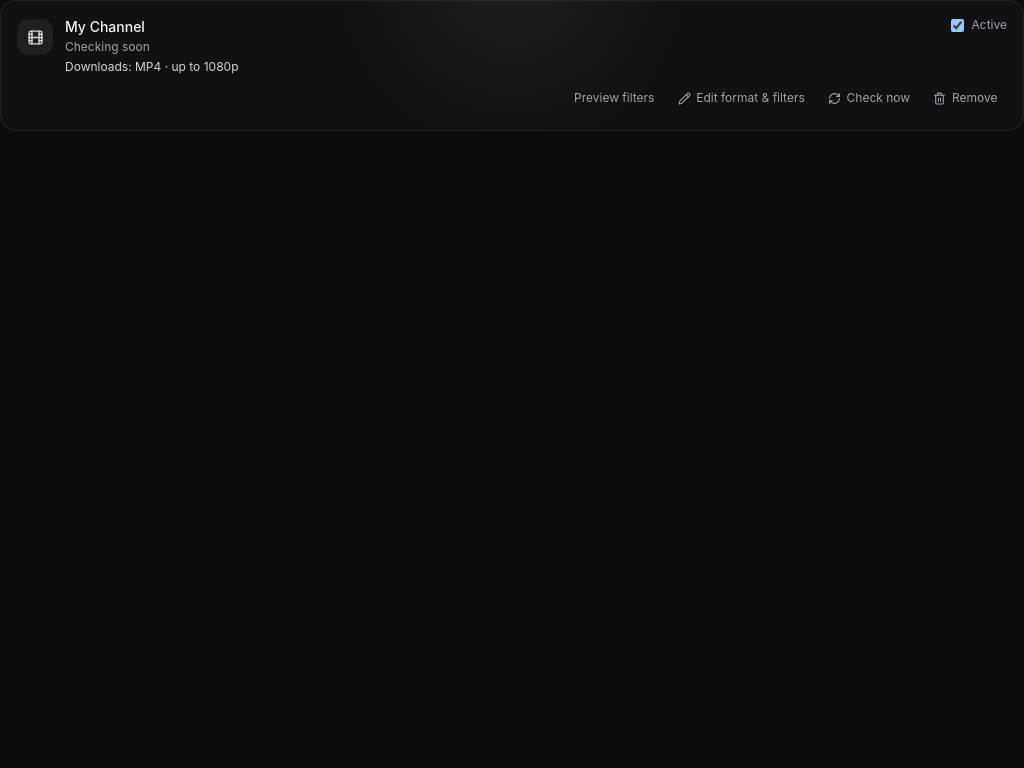
Test case: SubscriptionCard › previews draft filters without updating the subscription
This screenshot has width=1024, height=768.
Click the button "Edit format & filters": coordinates (741, 98) [668,83,814,114]
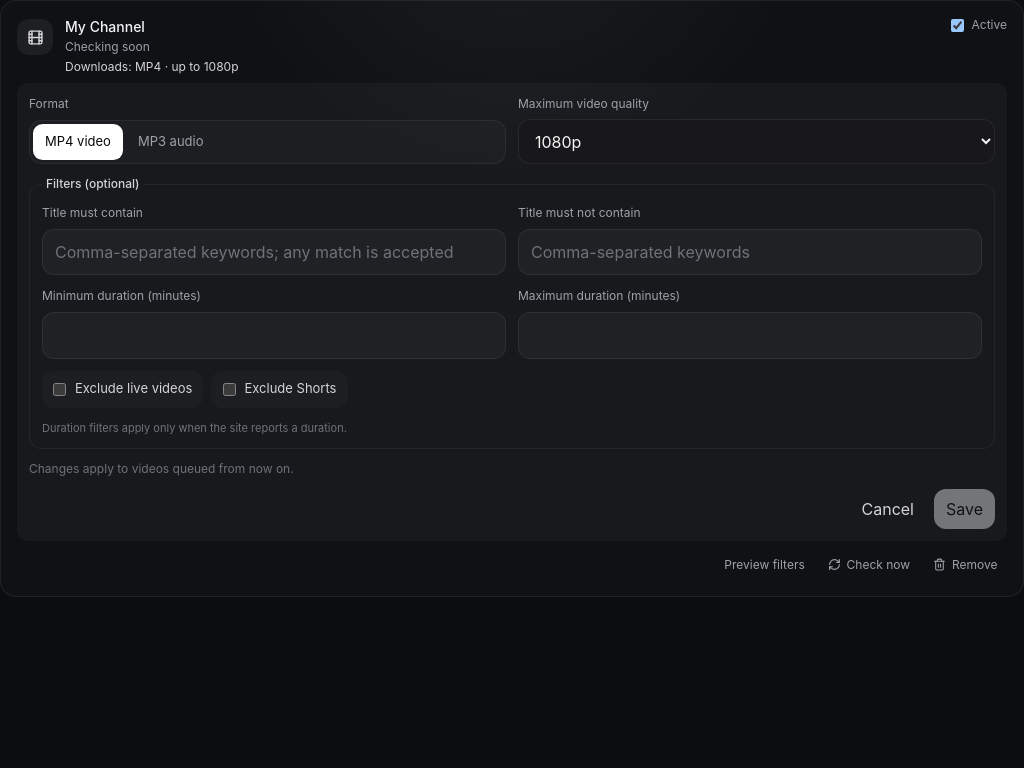
In the field labelled "Title must contain": coordinates (274, 252) [42,229,506,275], type "cat"
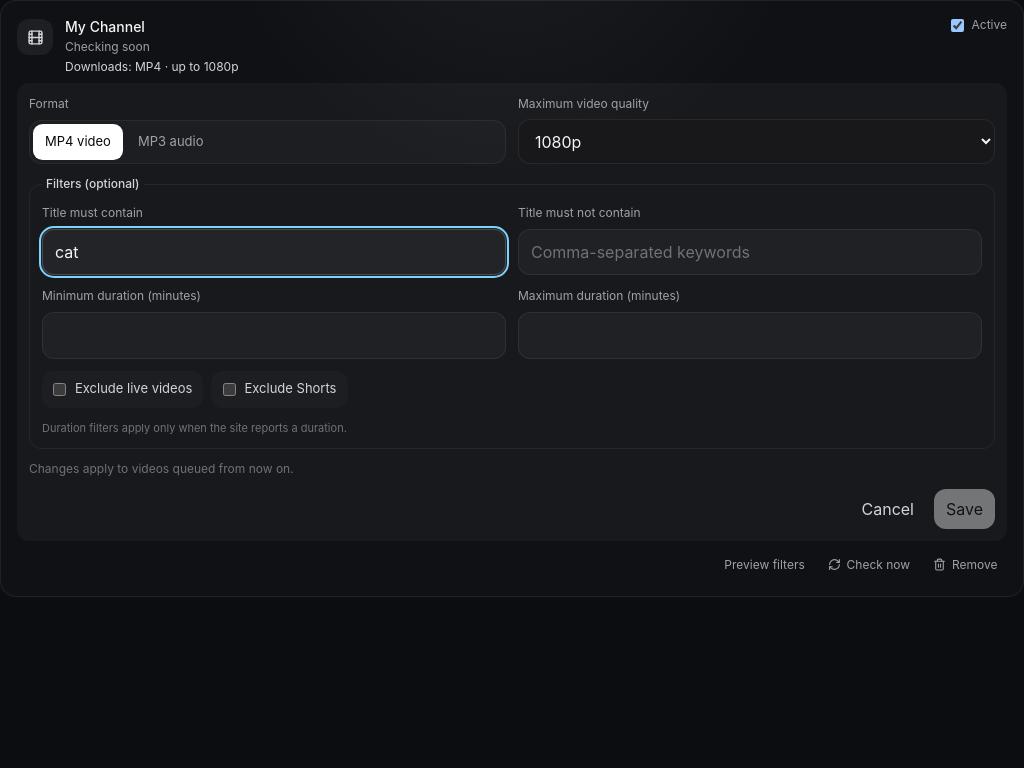
Click the button "Preview filters": coordinates (765, 564) [715,549,814,580]
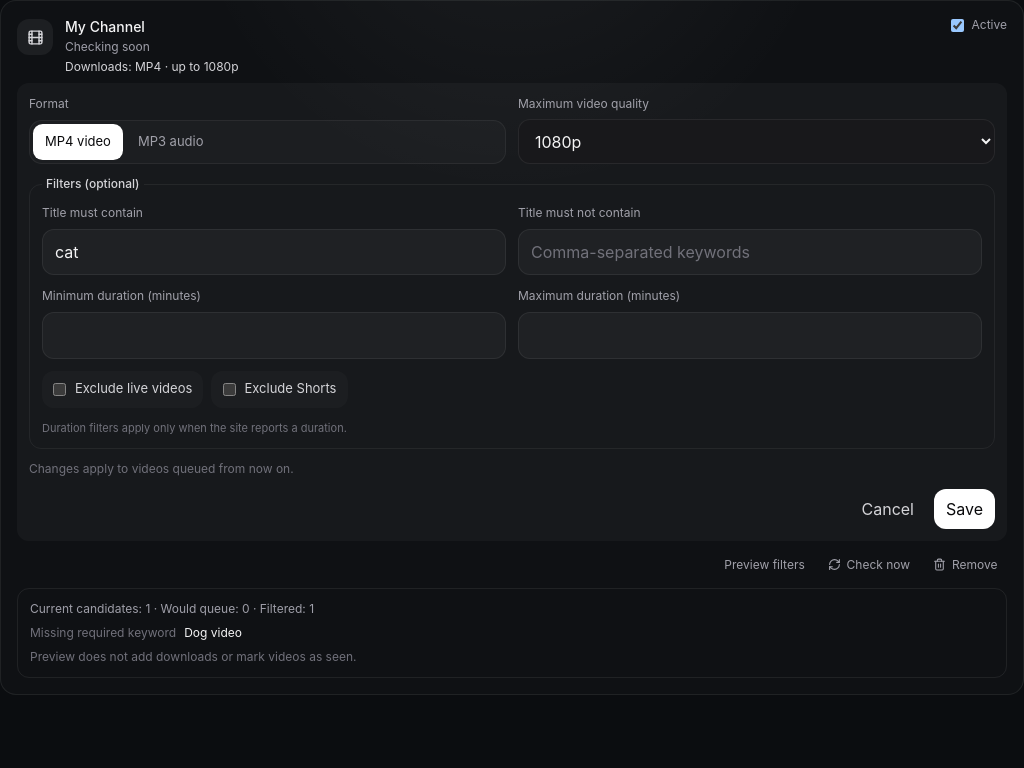
Expected: the text "Dog video" is shown, [184,625,242,640]
Expected: the text "Current candidates: 1 · Would queue: 0 · Filtered: 1" is shown, [30,601,314,616]
